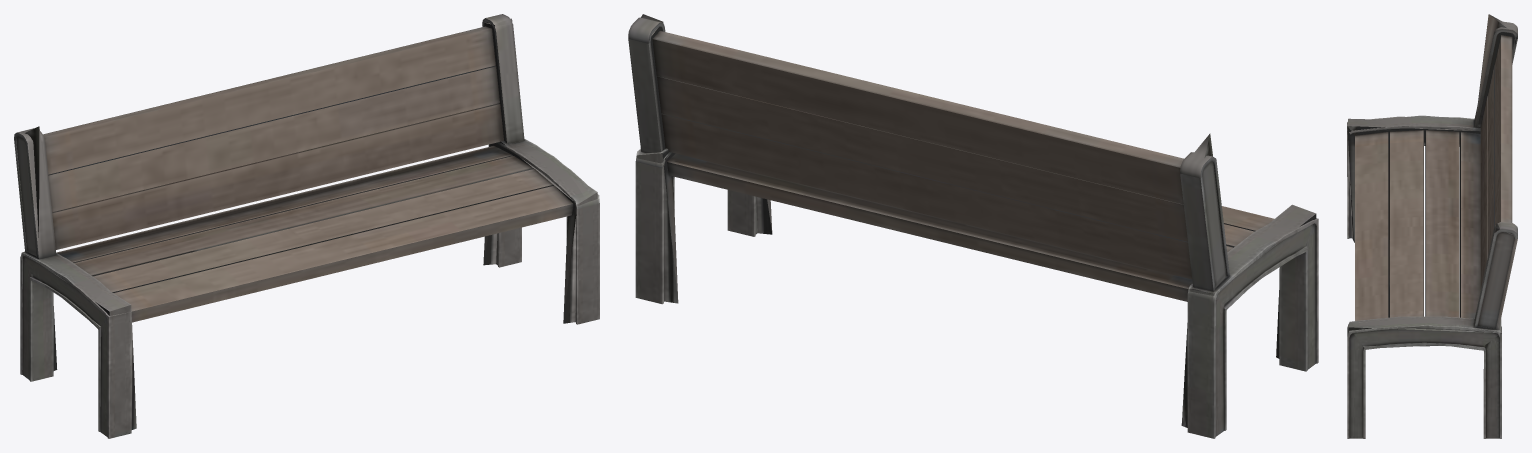
Rendered from street-bench.glb.
3 renders of one model, left to right at view 1: azimuth 30°, elevation 25°; view 2: azimuth 150°, elevation 25°; view 3: azimuth 270°, elevation 25°, orthographic. The views are drawn at different scales.
Parts seen in each view (by area): view 1: SM_CityProps_BenchesA_A_LOD0; view 2: SM_CityProps_BenchesA_A_LOD0; view 3: SM_CityProps_BenchesA_A_LOD0.
Boxes of the visible parts, x1=… form: SM_CityProps_BenchesA_A_LOD0: x1=14, y1=14, x2=599, y2=438; SM_CityProps_BenchesA_A_LOD0: x1=628, y1=14, x2=1318, y2=438; SM_CityProps_BenchesA_A_LOD0: x1=1347, y1=14, x2=1517, y2=438.
Size of the model in its own units: 1.84 by 0.9 by 0.6329.
Materials: 1 (1 with a texture image).
